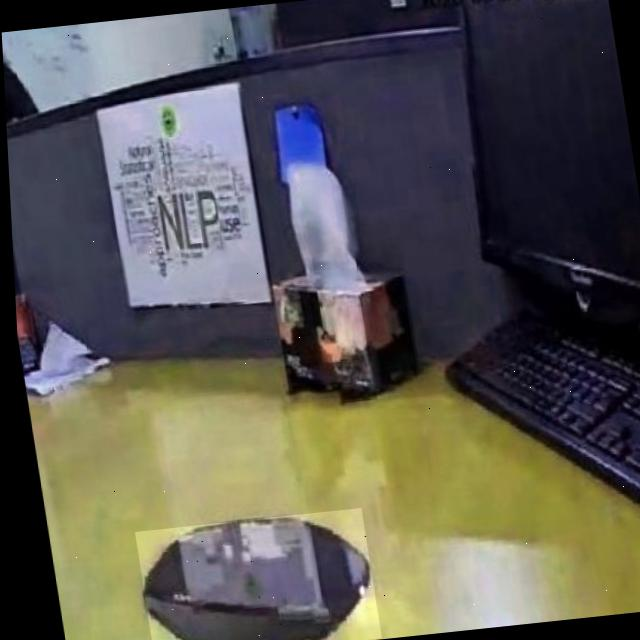spillage: (137, 518, 364, 640)
